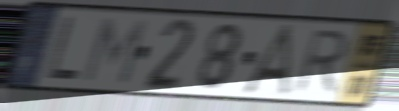2: (141, 17, 197, 92)
8: (194, 22, 244, 92)
A: (239, 22, 297, 100)
L: (43, 15, 82, 85)
M: (79, 16, 150, 87)
R: (290, 28, 353, 96)
